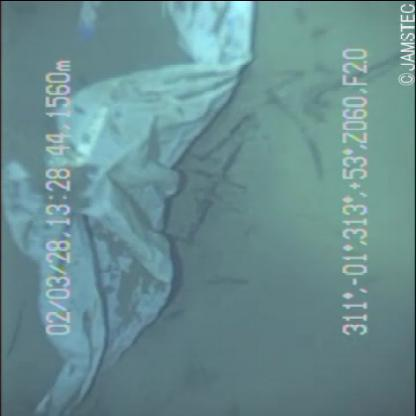Rác: (8, 1, 261, 415)
